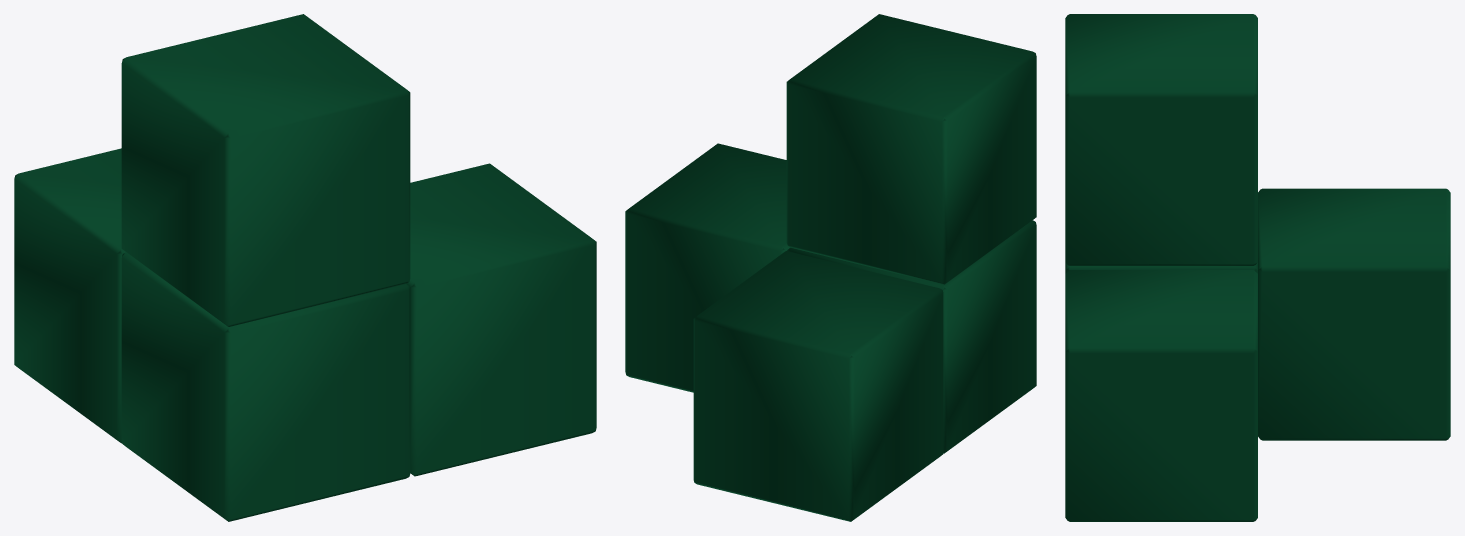
File: green_block_base_link.dae
The picture shows the model from 3 angles, left to right: view 1: azimuth 30°, elevation 25°; view 2: azimuth 150°, elevation 25°; view 3: azimuth 270°, elevation 25°; orthographic projection. The views are drawn at different scales.
Parts seen in each view (by area): view 1: root (×4); view 2: root (×4); view 3: root (×4).
Part boxes in pixels (x1,y1,x2,y2): root (×4): [14, 14, 596, 521]; root (×4): [625, 14, 1036, 521]; root (×4): [1065, 14, 1450, 521].
Bounding box in the file's own units: 0.06 × 0.06 × 0.06.
